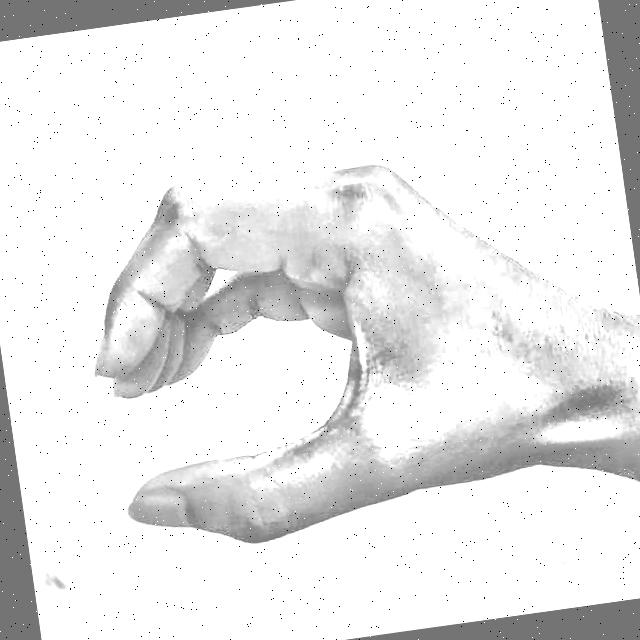Ka: (35, 105, 640, 606)
